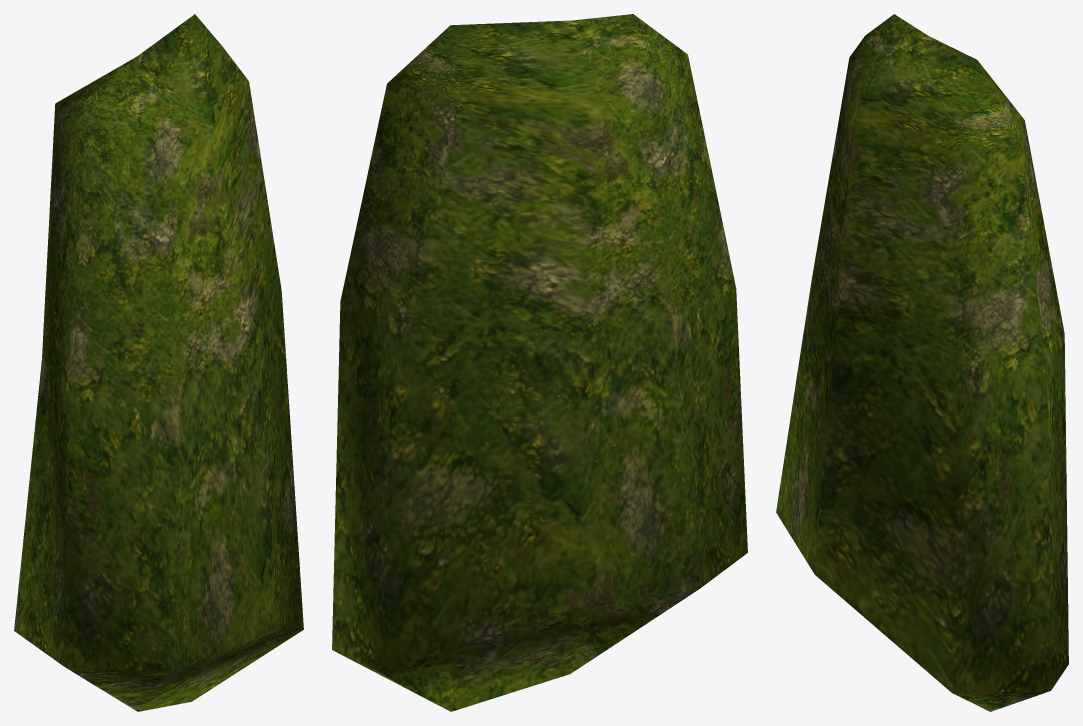
The model's file is OVERHILL_A_01_ROCK26.fbx.
The picture shows the model from 3 angles, left to right: view 1: azimuth 30°, elevation 25°; view 2: azimuth 150°, elevation 25°; view 3: azimuth 270°, elevation 25°; orthographic projection. The views are drawn at different scales.
Parts seen in each view (by area): view 1: OVERHILL_A_01_ROCK26; view 2: OVERHILL_A_01_ROCK26; view 3: OVERHILL_A_01_ROCK26.
Boxes of the visible parts, x1,y1,x2,y2 form: OVERHILL_A_01_ROCK26: (14, 14, 303, 711); OVERHILL_A_01_ROCK26: (332, 14, 747, 711); OVERHILL_A_01_ROCK26: (776, 14, 1068, 711).
Bounding box in the file's own units: 14601 × 31794 × 13201.
1 material, 1 textured.
